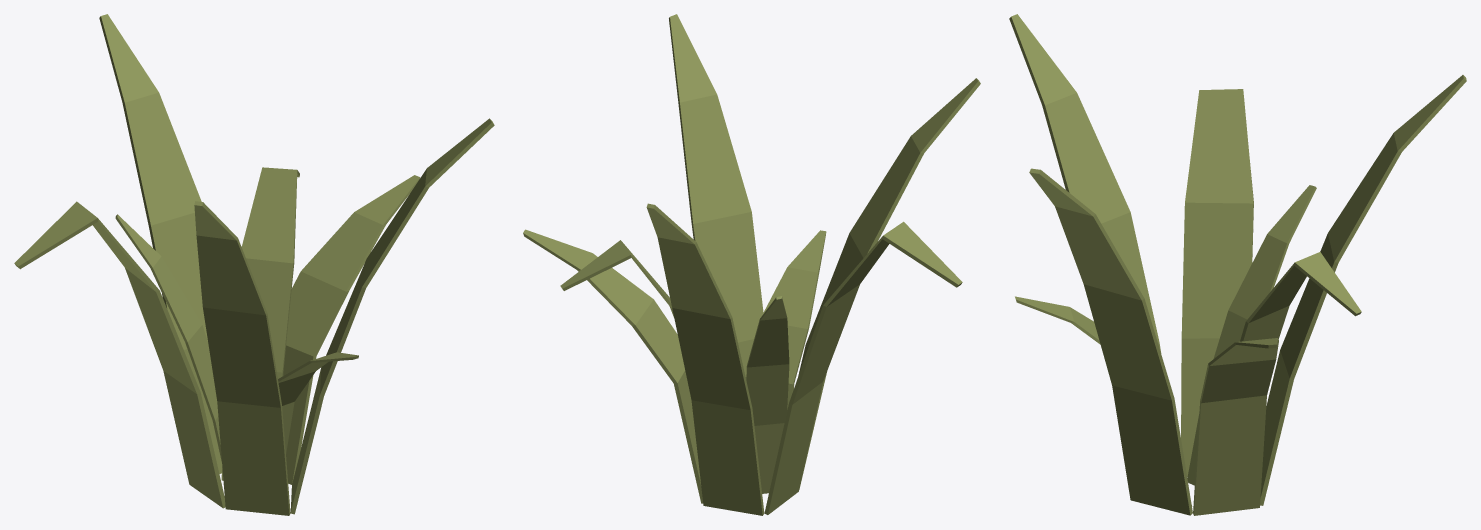
The model's file is Wh_Grass.fbx.
The picture shows the model from 3 angles, left to right: view 1: azimuth 30°, elevation 25°; view 2: azimuth 150°, elevation 25°; view 3: azimuth 270°, elevation 25°; orthographic projection. The views are drawn at different scales.
Parts seen in each view (by area): view 1: Cube.1109; view 2: Cube.1109; view 3: Cube.1109.
Boxes of the visible parts, x1,y1,x2,y2 form: Cube.1109: [14, 14, 494, 515]; Cube.1109: [523, 14, 980, 515]; Cube.1109: [1009, 14, 1466, 515].
Size of the model in its own units: 64.46 by 56.59 by 57.43.
